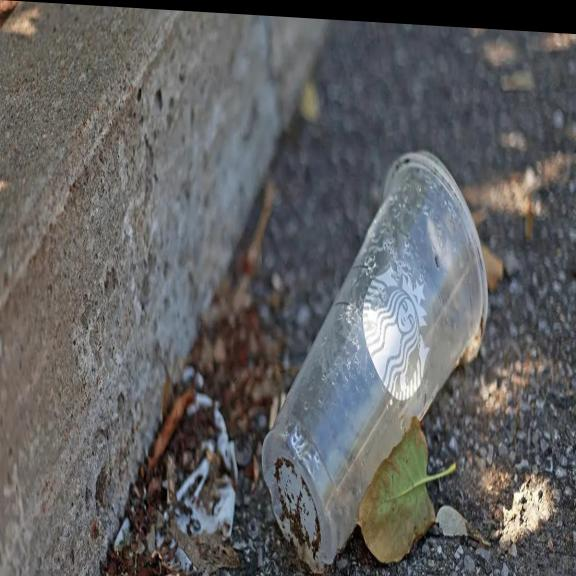Plastik: (263, 153, 487, 571)
